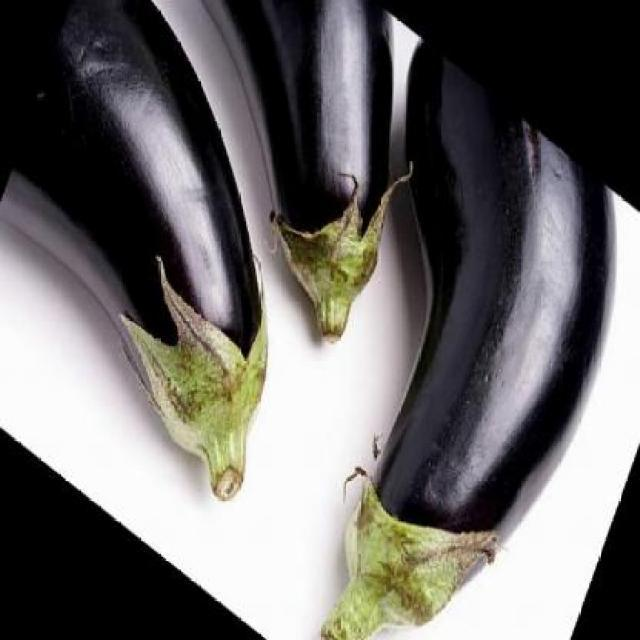eggplant: (226, 36, 640, 638), (0, 0, 358, 509), (46, 0, 448, 357)
